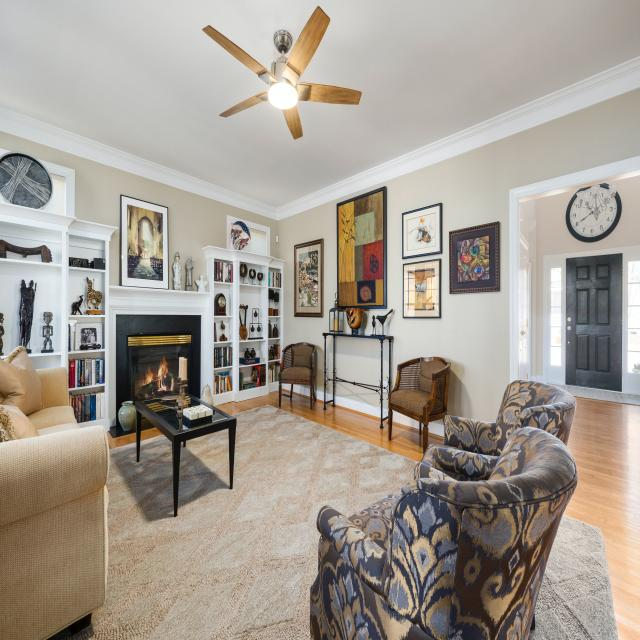floor: (566, 397, 640, 640), (213, 390, 423, 462), (106, 431, 136, 450), (108, 420, 136, 438), (140, 427, 163, 441), (141, 417, 155, 431), (281, 390, 290, 396)
wall: (277, 73, 640, 423), (0, 115, 277, 291), (536, 170, 640, 384), (108, 285, 234, 431), (565, 183, 622, 243), (335, 336, 381, 386), (334, 381, 381, 418), (529, 212, 536, 381), (520, 199, 536, 245), (392, 410, 419, 429), (326, 335, 333, 379), (428, 419, 444, 437), (383, 339, 389, 386), (293, 384, 311, 398), (383, 391, 389, 419), (326, 380, 333, 402), (355, 384, 380, 390), (281, 383, 291, 393), (378, 388, 381, 397)
